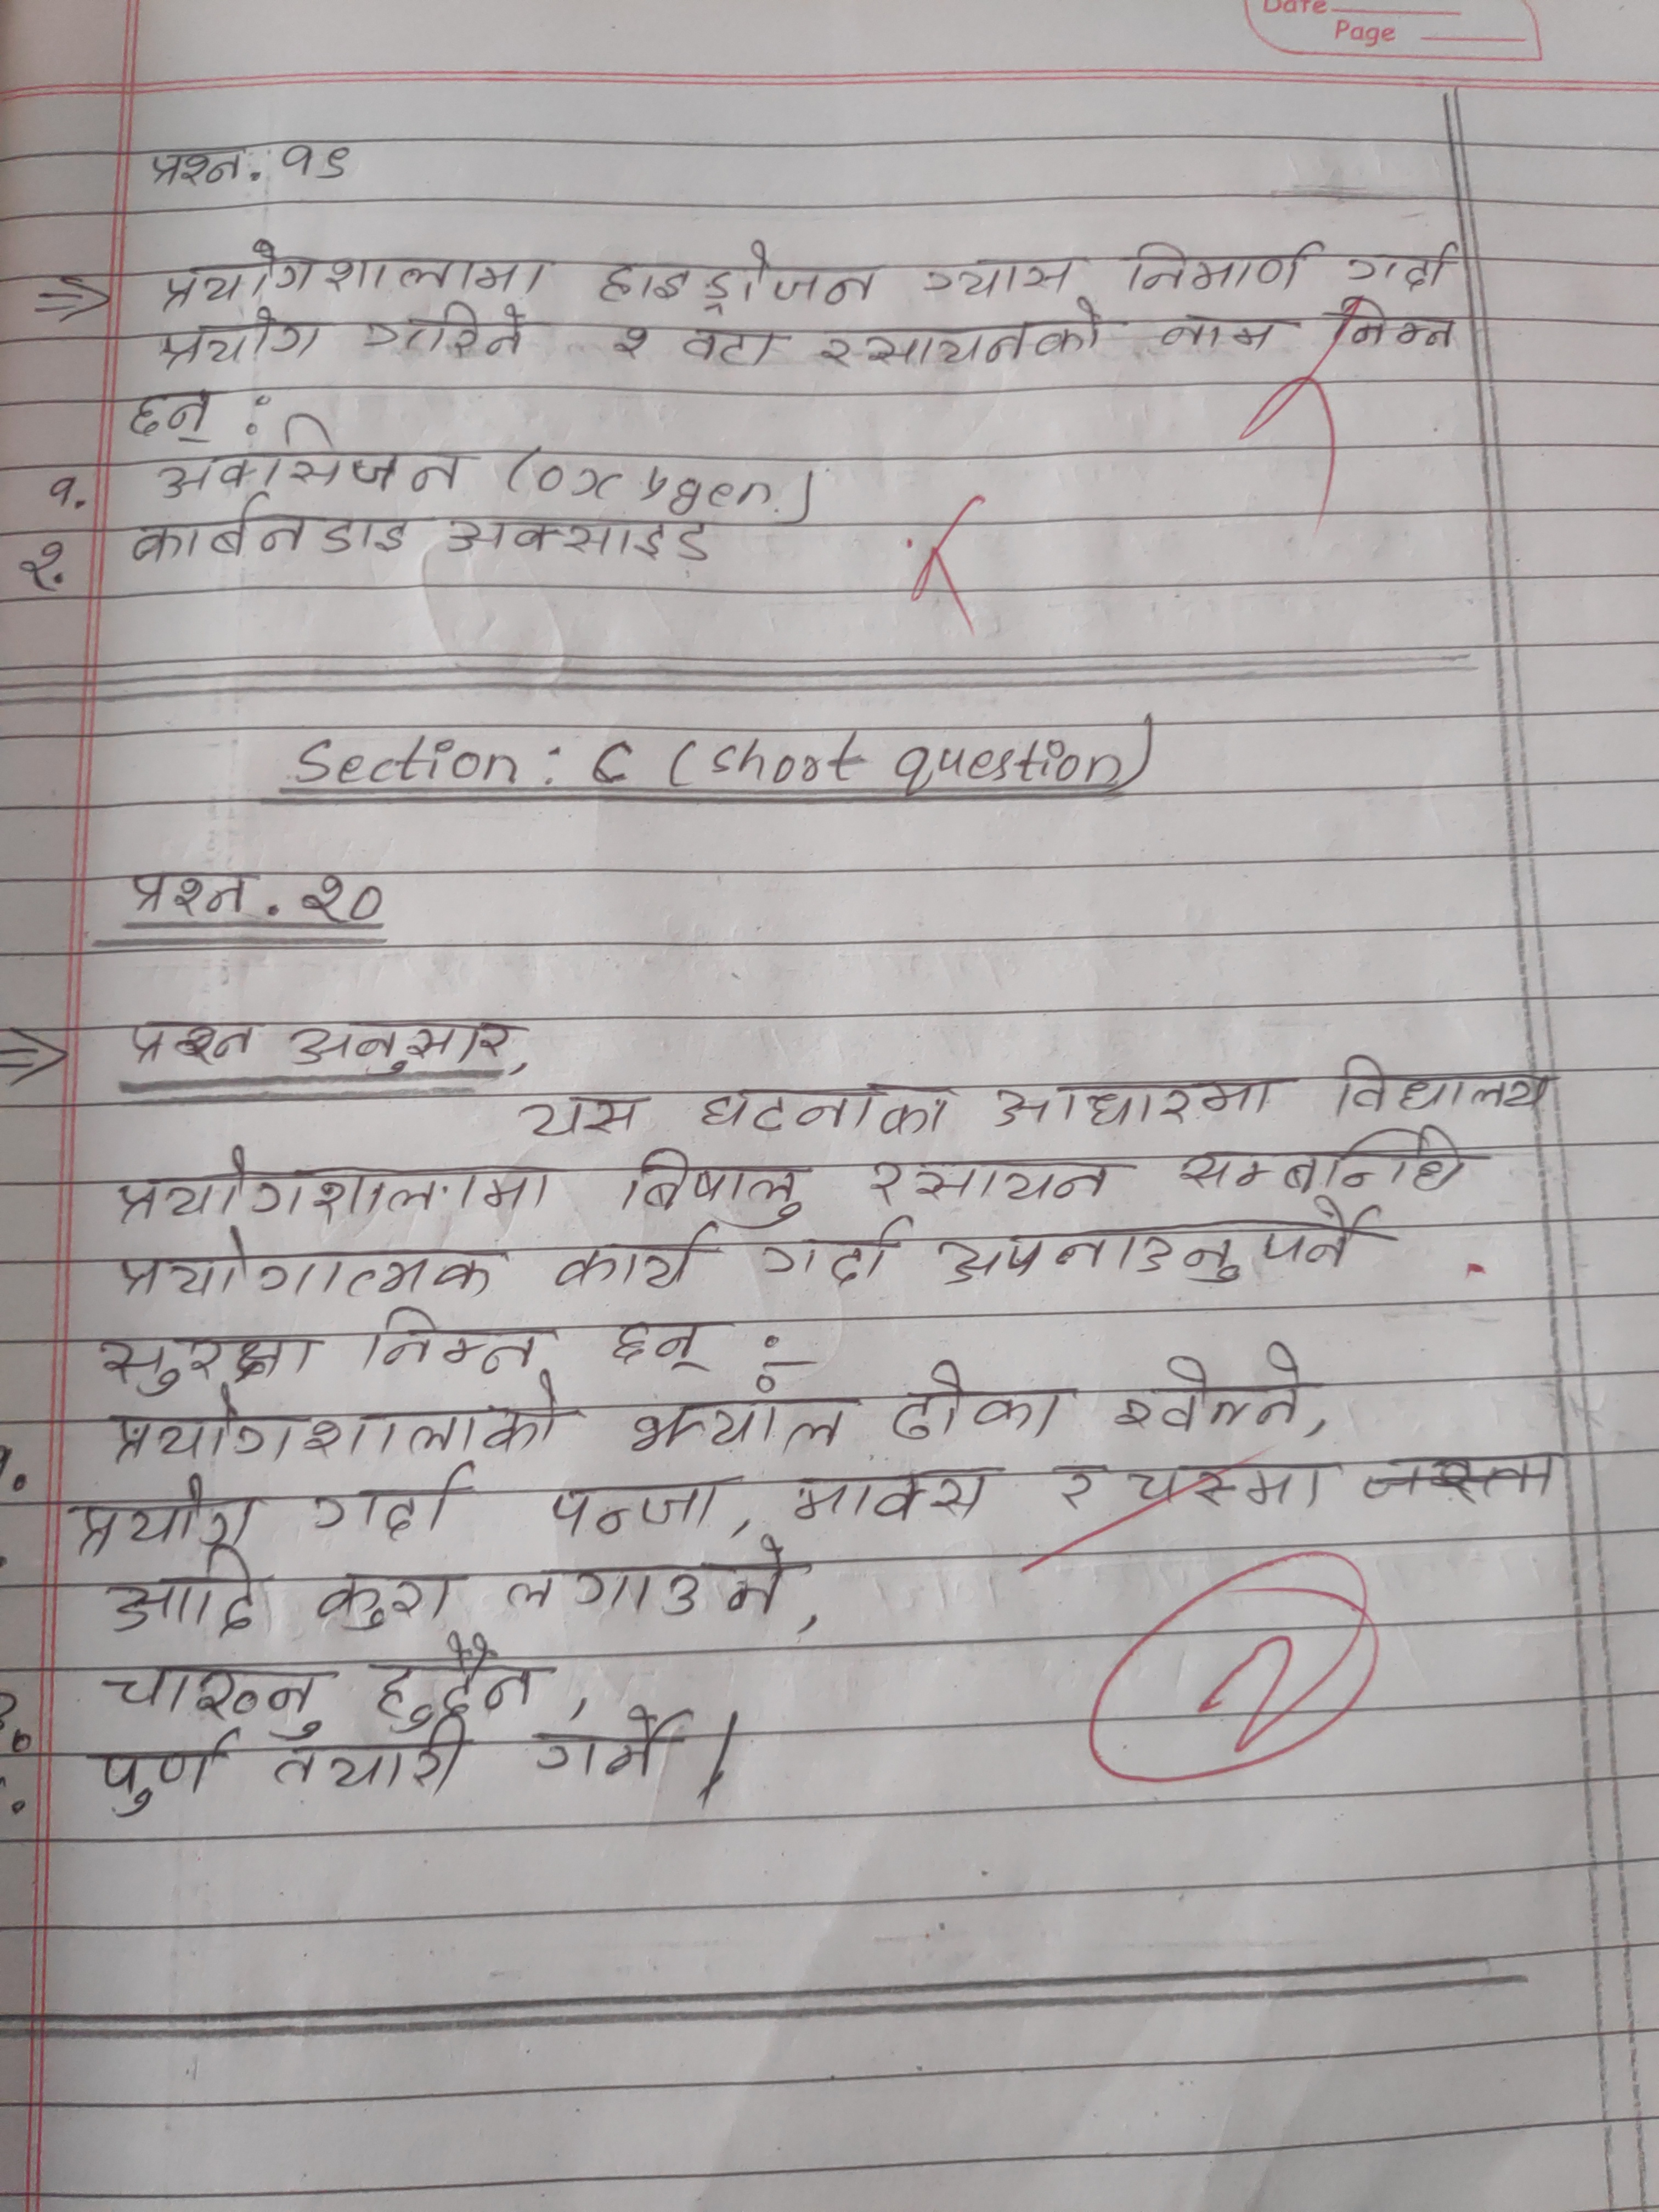text: (932, 1198, 1385, 1285), (94, 1395, 579, 1460), (110, 1153, 552, 1221), (112, 1230, 509, 1298), (157, 242, 552, 308), (498, 1536, 793, 1623), (143, 432, 469, 500), (599, 237, 880, 314), (1176, 1129, 1481, 1197), (105, 1651, 335, 1738), (805, 308, 1127, 369), (125, 496, 413, 563), (1112, 1341, 1310, 1437), (627, 1379, 856, 1456), (439, 512, 716, 575), (369, 1629, 545, 1726), (690, 1076, 958, 1139), (993, 1073, 1293, 1127), (620, 1148, 816, 1230), (98, 1550, 270, 1642), (89, 1327, 329, 1393), (71, 1468, 256, 1552), (282, 1005, 528, 1068), (281, 1719, 476, 1797), (866, 1151, 1121, 1211), (1333, 1045, 1554, 1113), (885, 1362, 1063, 1446), (364, 1299, 542, 1379), (305, 1456, 479, 1536), (1124, 1454, 1340, 1519), (1121, 233, 1328, 300), (538, 1703, 701, 1785), (87, 1731, 234, 1818), (788, 1467, 985, 1527), (538, 1477, 720, 1538), (756, 1217, 906, 1287), (312, 1568, 464, 1634), (354, 307, 535, 361), (153, 308, 322, 366), (552, 1230, 721, 1287), (110, 1014, 268, 1071), (1331, 291, 1466, 355), (601, 1312, 716, 1383), (920, 249, 1082, 300), (681, 312, 786, 378), (122, 871, 261, 918), (1155, 308, 1290, 357), (525, 1089, 647, 1141), (1337, 239, 1460, 287), (125, 387, 223, 442), (141, 148, 246, 193), (291, 874, 392, 920), (281, 138, 356, 188), (1044, 1454, 1101, 1515), (610, 308, 659, 368)
